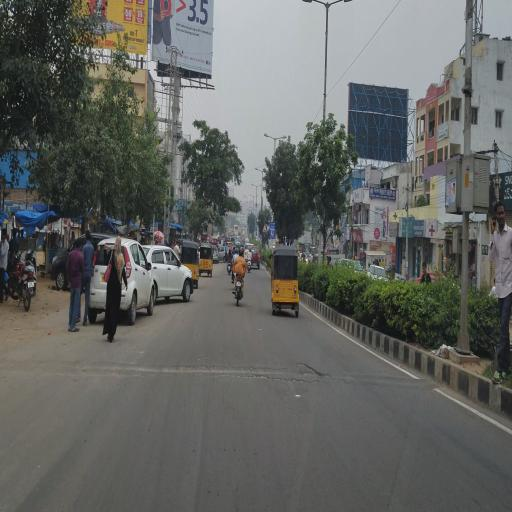street_light_0: (260, 124, 278, 144), (274, 132, 291, 152), (250, 153, 262, 173), (257, 172, 267, 194), (248, 176, 256, 190)
